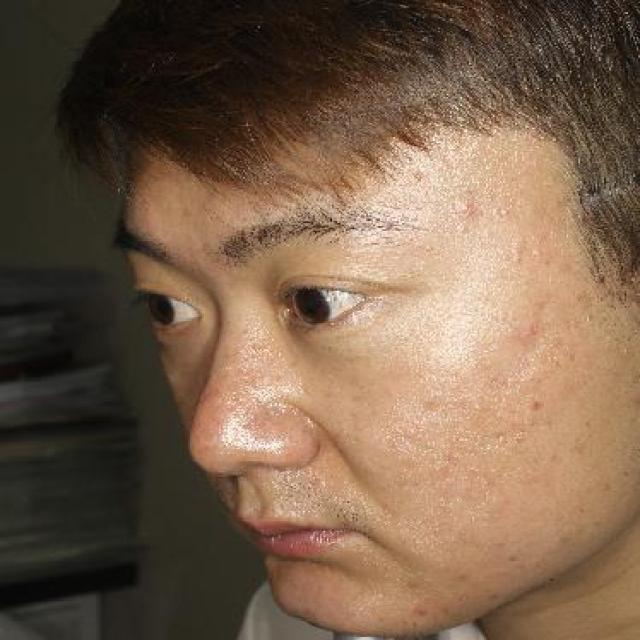dark spot: (399, 574, 431, 594), (410, 600, 434, 620), (525, 395, 546, 411)
papules: (450, 198, 484, 218)
whiteheads: (491, 203, 517, 220), (455, 220, 474, 235)
